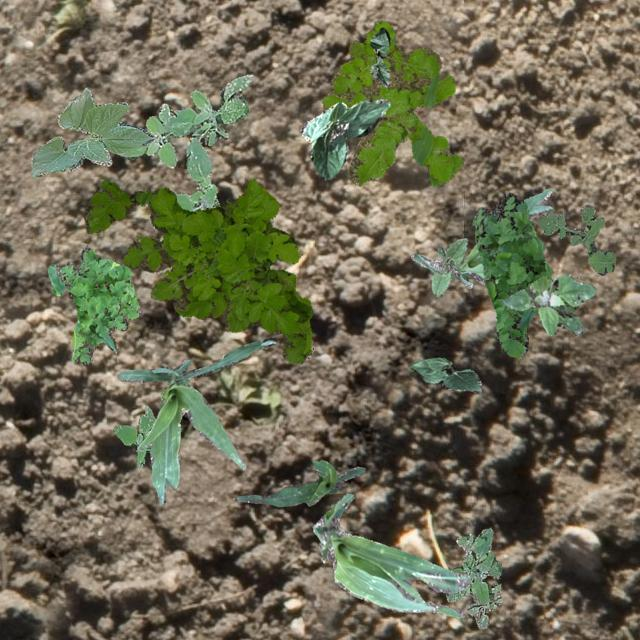crop: (117, 336, 276, 504), (312, 494, 469, 616), (409, 188, 552, 288), (29, 86, 152, 176), (300, 98, 388, 178), (236, 458, 364, 506), (408, 357, 481, 392), (430, 238, 468, 296), (368, 27, 388, 86)
weed: (82, 178, 312, 362), (322, 19, 462, 184), (117, 74, 251, 210), (472, 192, 550, 358), (46, 246, 140, 364), (446, 526, 502, 628), (500, 274, 594, 334), (536, 203, 614, 274), (112, 404, 154, 466)
